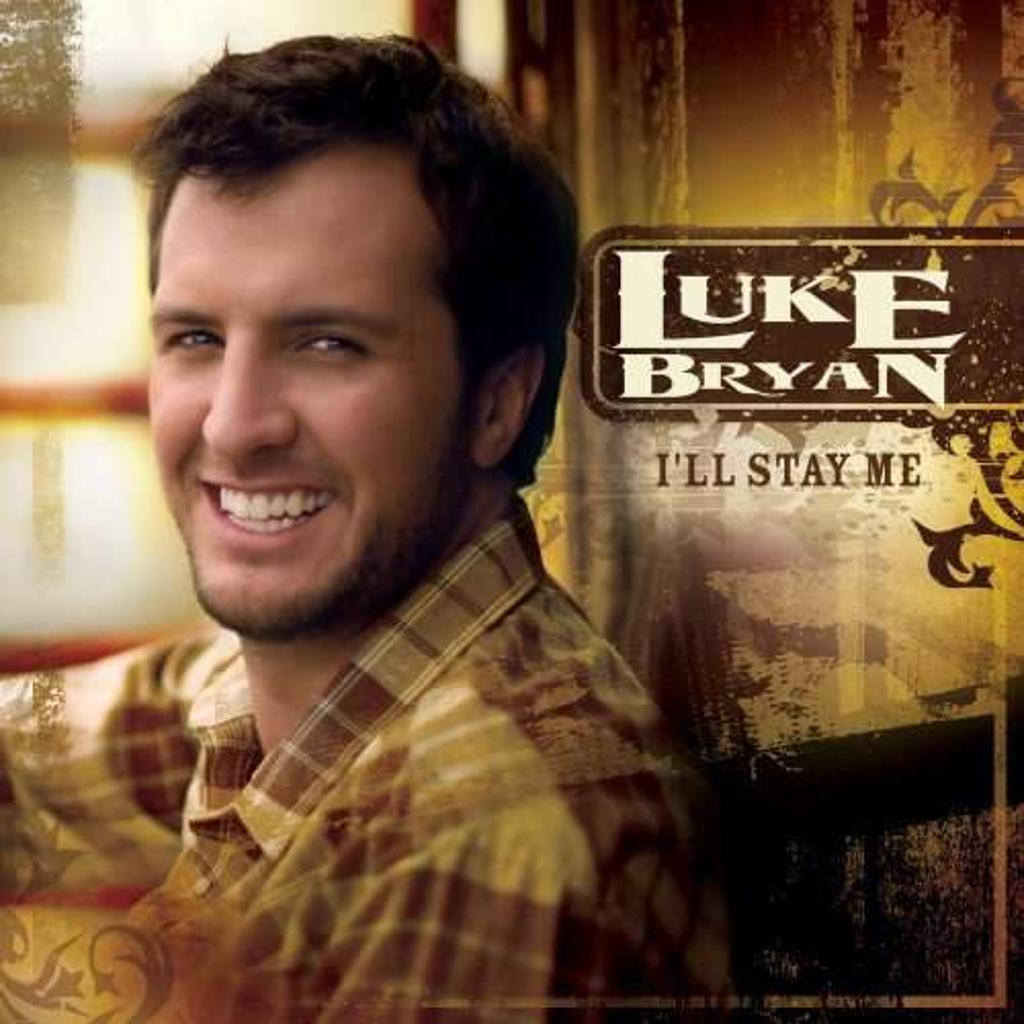face: (151, 149, 481, 635)
